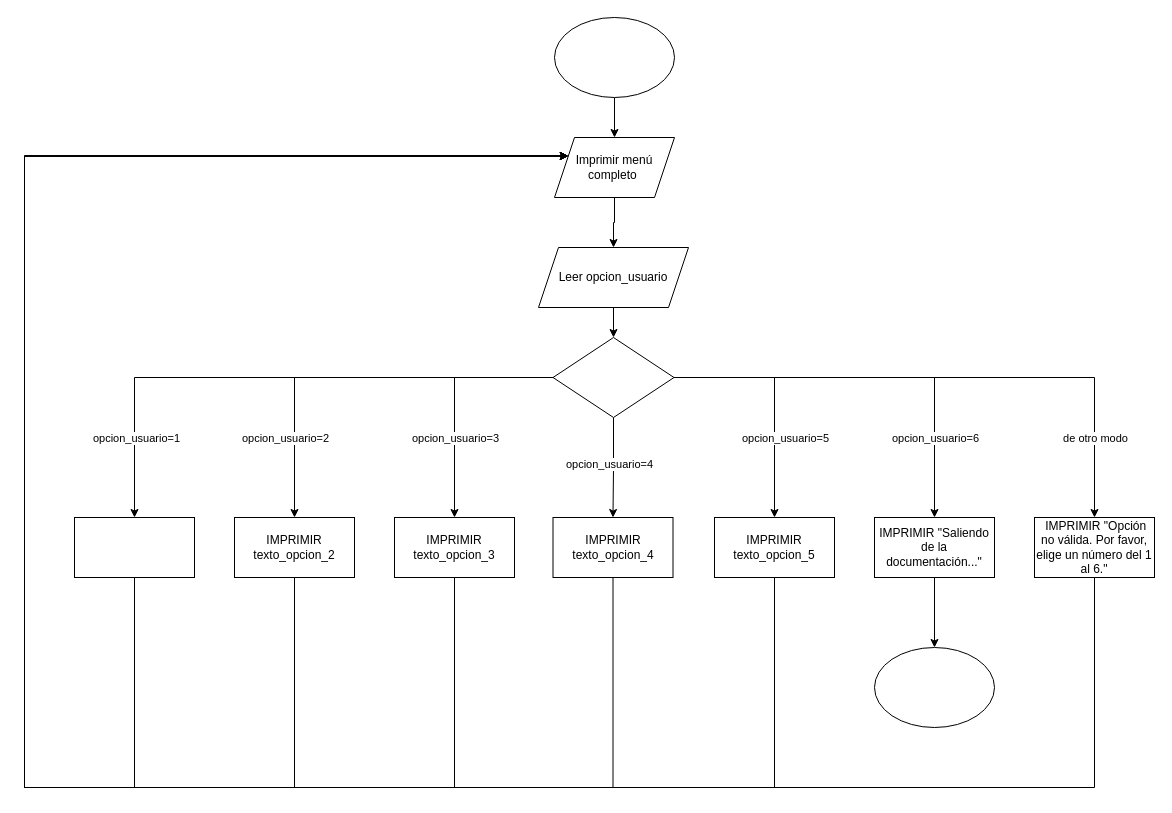
Some shapes in this 1172 by 813 pixel diagram are drawn without their labels. The centre of each missing label's shape, as x and y in pixels:
"FIN" goes at point 934,687.
"IMPRIMIR texto_opcion_1" goes at point 134,547.
"INICIO" goes at point 614,57.
"opcion_usuario" goes at point 613,377.
